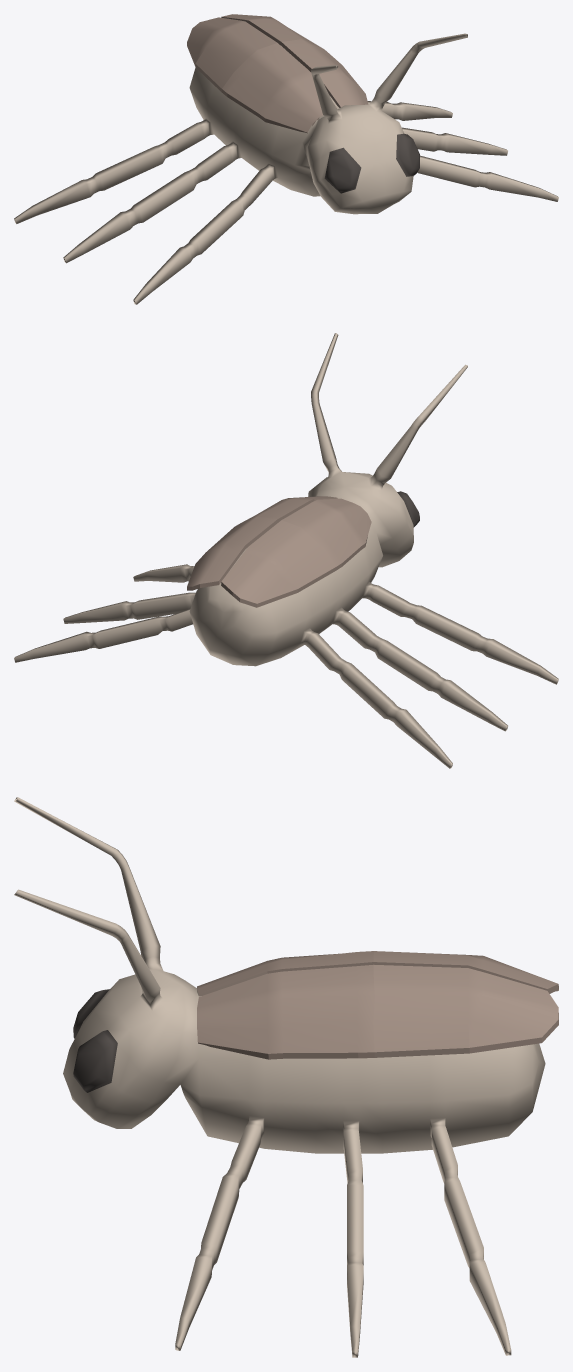
Rendered from Scout_Model_Newer_SC.fbx.
3 views of the same model, one above another, from view 1: azimuth 30°, elevation 25°; view 2: azimuth 150°, elevation 25°; view 3: azimuth 270°, elevation 25° (orthographic). The views are drawn at different scales.
Visible parts, largest first — view 1: Scout_New; view 2: Scout_New; view 3: Scout_New.
Boxes of the visible parts, left/top/right/bottom form: Scout_New: left=14, top=14, right=558, bottom=304; Scout_New: left=14, top=333, right=558, bottom=768; Scout_New: left=14, top=797, right=558, bottom=1357.
Size of the model in its own units: 1.32 by 0.6961 by 0.9631.
